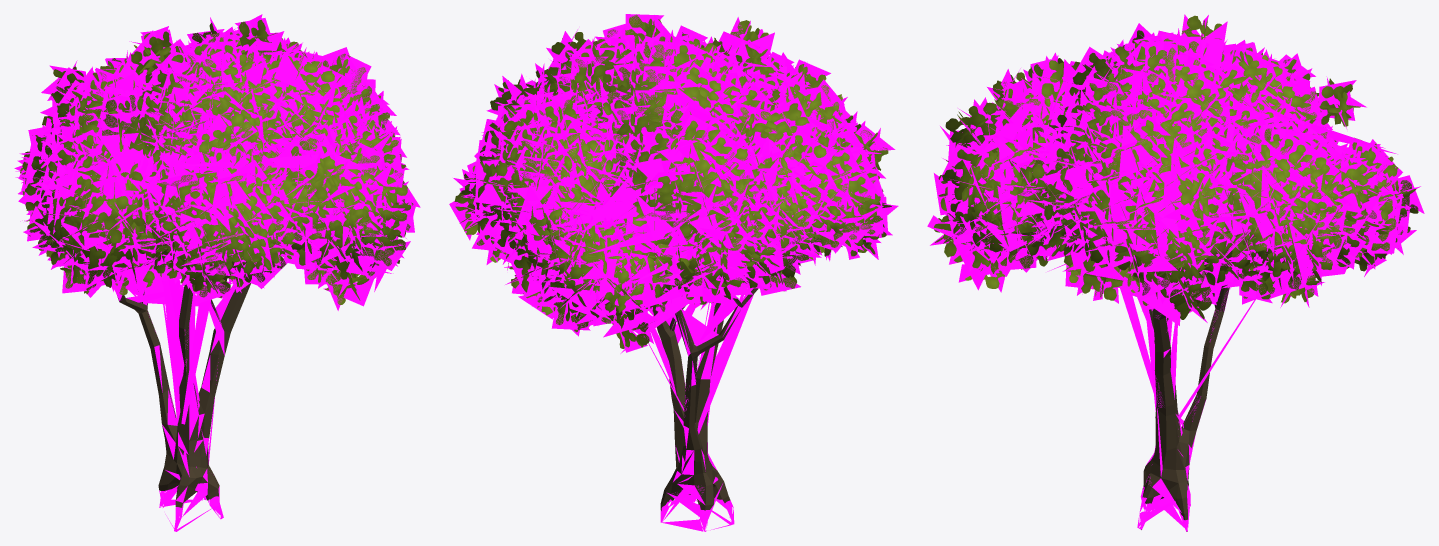
File: SM_Env_Tree_Fruit_03.glb
The picture shows the model from 3 angles, left to right: view 1: azimuth 30°, elevation 25°; view 2: azimuth 150°, elevation 25°; view 3: azimuth 270°, elevation 25°; orthographic projection. The views are drawn at different scales.
Parts seen in each view (by area): view 1: SM_Env_Tree_Fruit_03; view 2: SM_Env_Tree_Fruit_03; view 3: SM_Env_Tree_Fruit_03.
Part boxes in pixels (<box>): SM_Env_Tree_Fruit_03: <box>14,14,420,531</box>; SM_Env_Tree_Fruit_03: <box>449,14,898,531</box>; SM_Env_Tree_Fruit_03: <box>927,14,1424,531</box>.
Bounding box in the file's own units: 3.79 × 4.5 × 4.05.
Materials: 2 (1 with a texture image).
